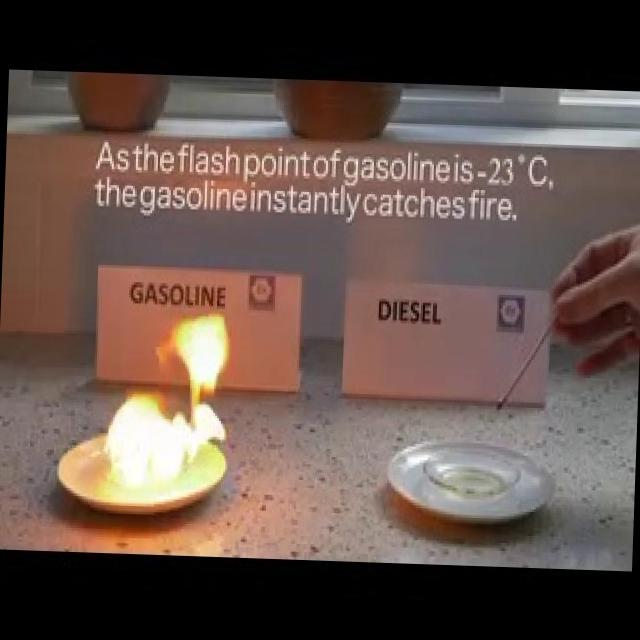Fire: (100, 301, 237, 489)
